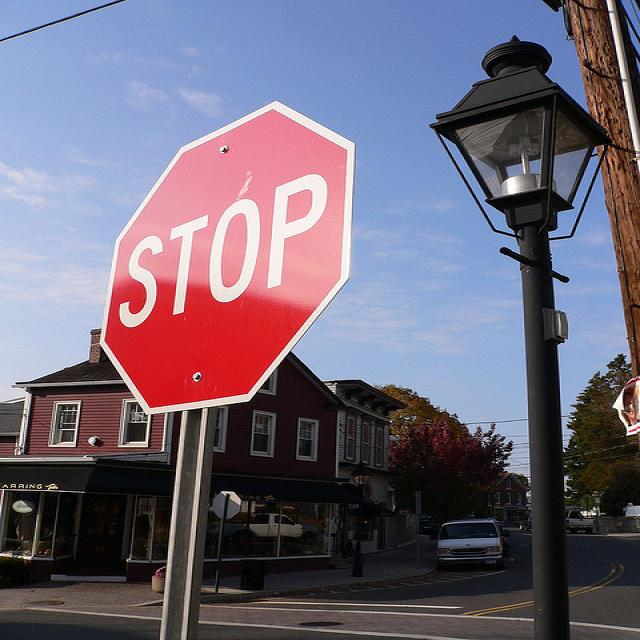Vehicle: (437, 519, 513, 572), (438, 518, 505, 570), (221, 514, 302, 542), (565, 510, 596, 534), (418, 517, 439, 535), (516, 515, 530, 532)
